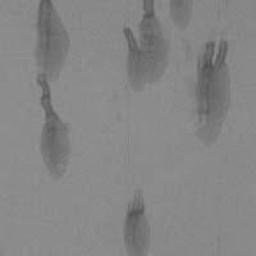Oil spot: (29, 0, 73, 184), (122, 0, 196, 95), (179, 26, 234, 148), (123, 183, 154, 256)
